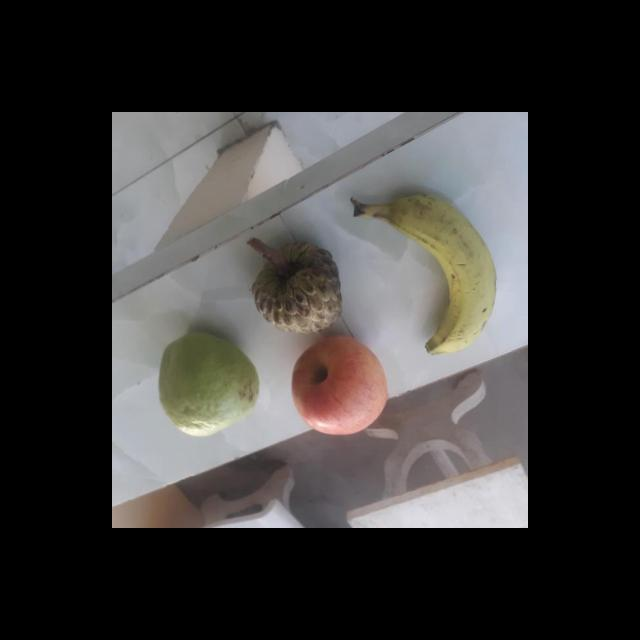Sakya fruit: (245, 240, 342, 334)
apple: (288, 339, 390, 434)
banana: (360, 192, 493, 356)
guava: (154, 336, 258, 436)
